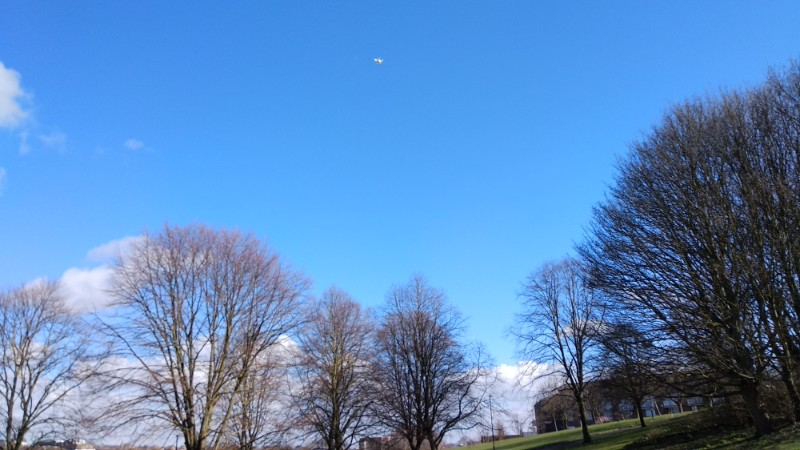drone: (372, 55, 386, 66)
